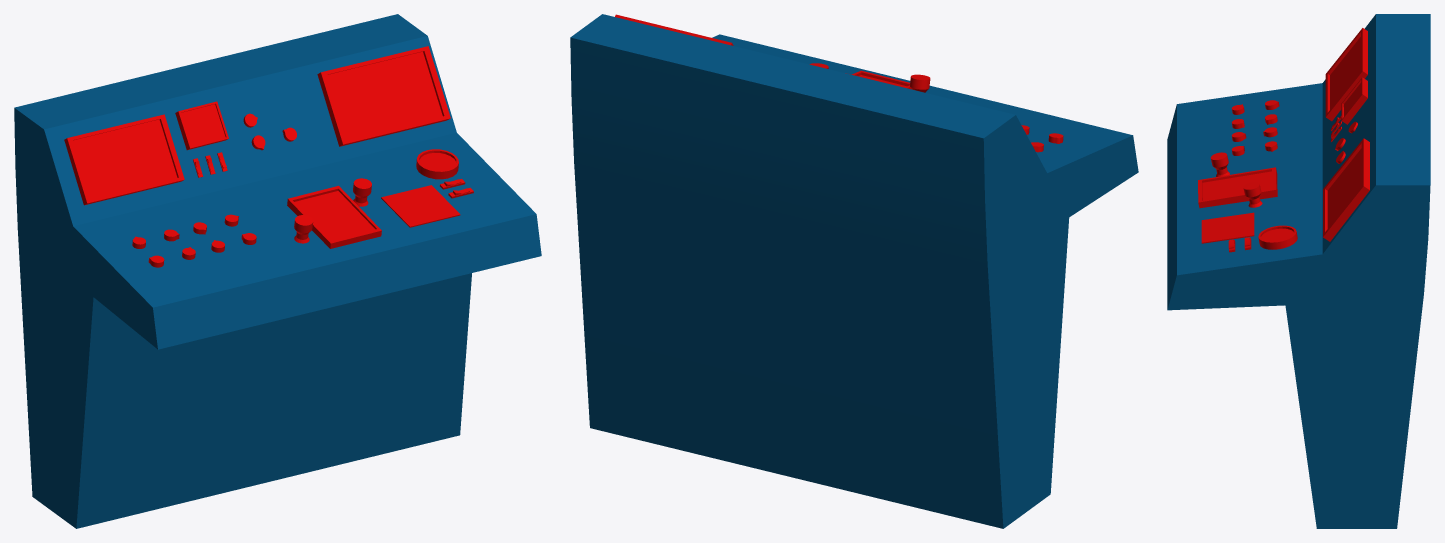
The model's file is PainelControle.fbx.
3 views of the same model, side by side, from view 1: azimuth 30°, elevation 25°; view 2: azimuth 150°, elevation 25°; view 3: azimuth 270°, elevation 25° (orthographic). The views are drawn at different scales.
Visible parts, largest first — view 1: pCube13; view 2: pCube13; view 3: pCube13.
Boxes of the visible parts, <box> form: pCube13: <box>14,14,541,528</box>; pCube13: <box>570,14,1138,528</box>; pCube13: <box>1167,14,1430,528</box>.
Bounding box in the file's own units: 7.6 × 7.11 × 4.93.
